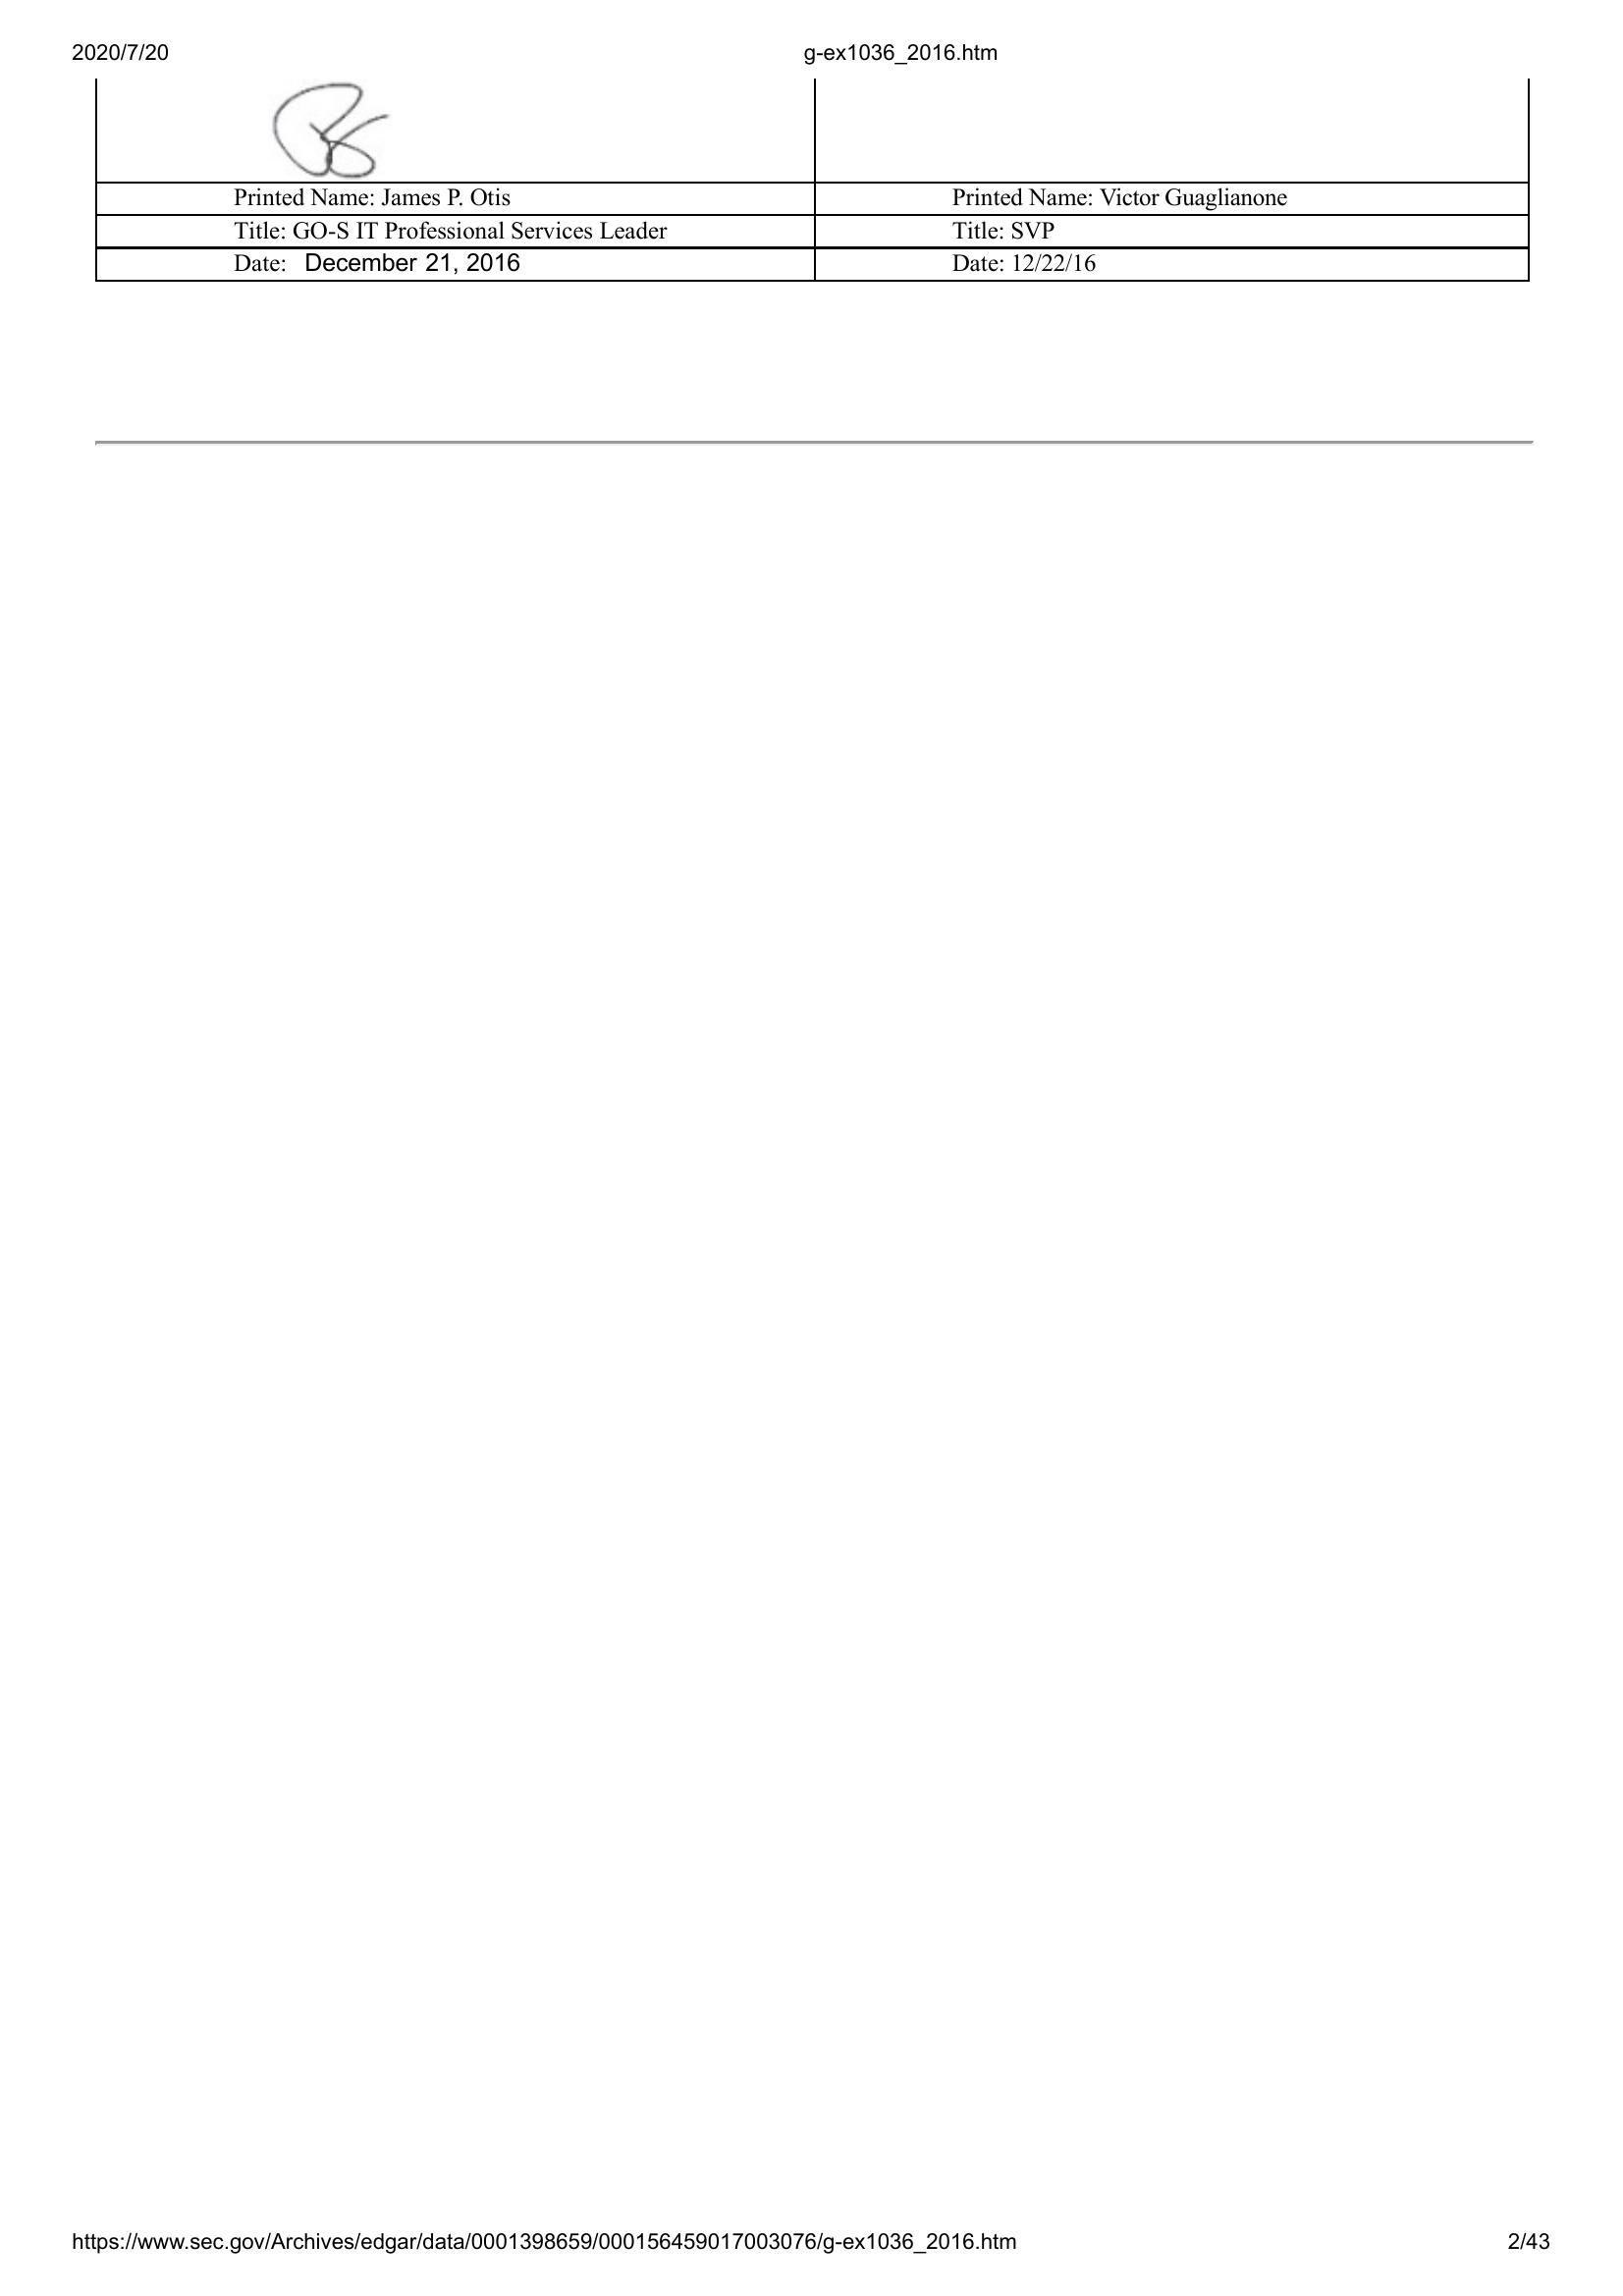table: (88, 72, 1539, 286)
